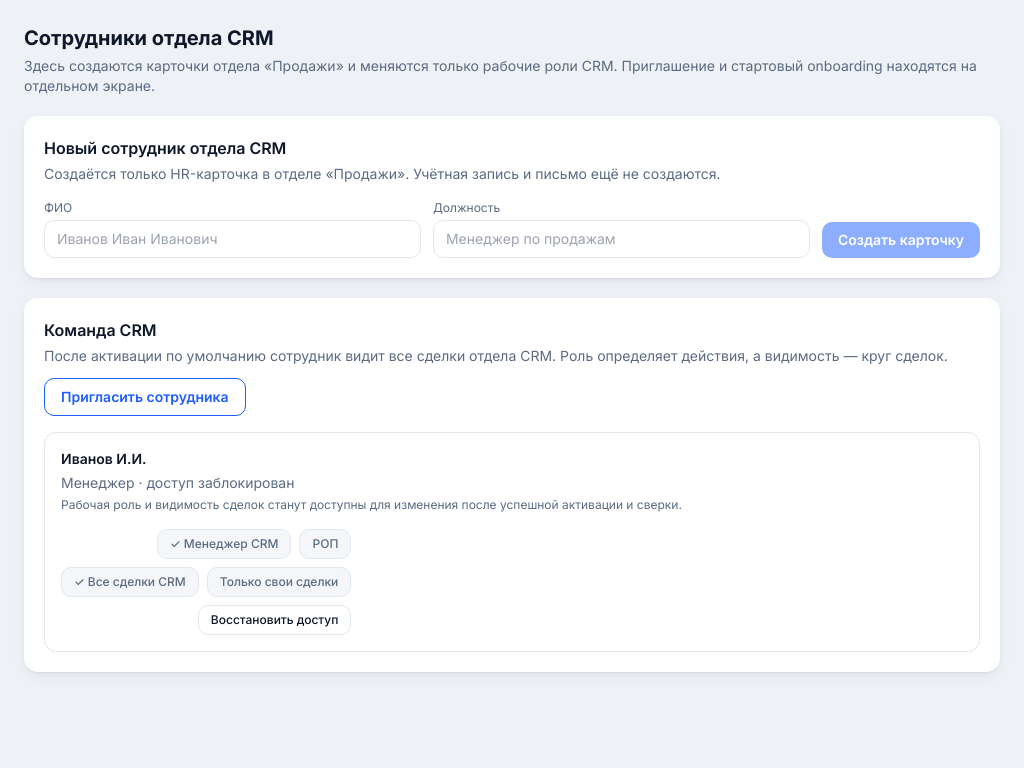
Test: CrmStaffAccess › restores only suspended access without enabling role changes first
The width and height of the screenshot is (1024, 768).
Check: the button "РОП" is disabled, box [300, 529, 351, 559]
Step 1. Click the button "Восстановить доступ" → (275, 620), box [198, 605, 351, 635]
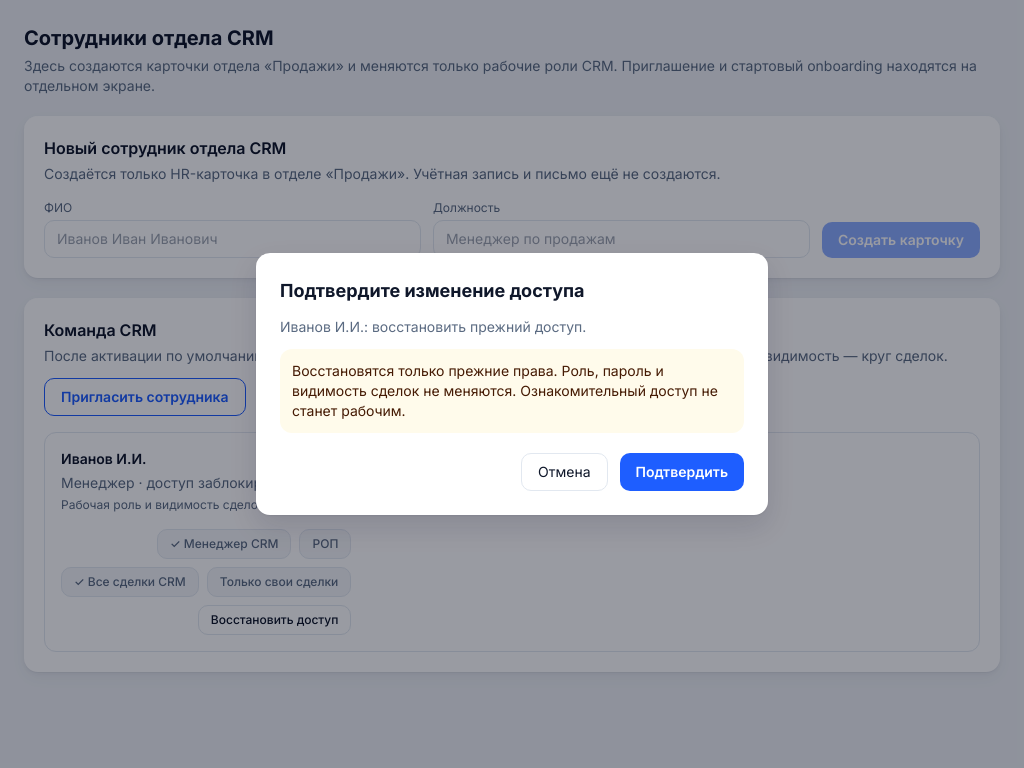
Check: the dialog shows "Ознакомительный доступ не станет рабочим", box [292, 362, 718, 419]
Step 2. Click the button "Подтвердить" → (682, 472), box [620, 453, 744, 491]
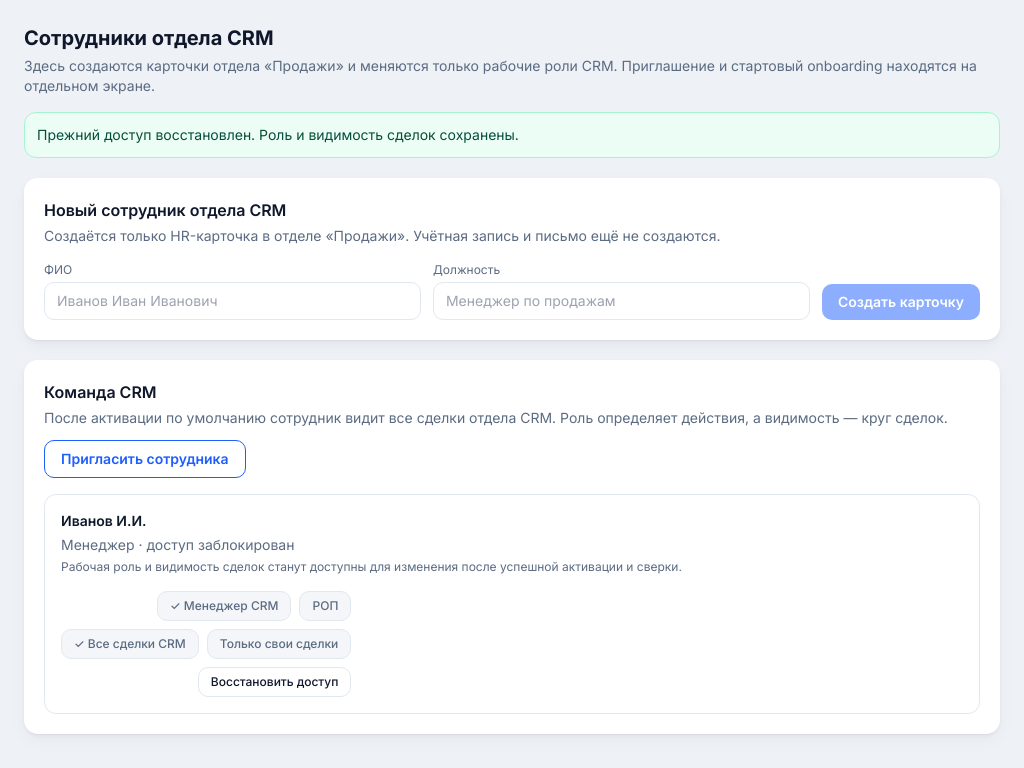
Check: the message "Прежний доступ восстановлен. Роль и видимость сделок сохранены." is shown, box [24, 112, 1000, 158]
